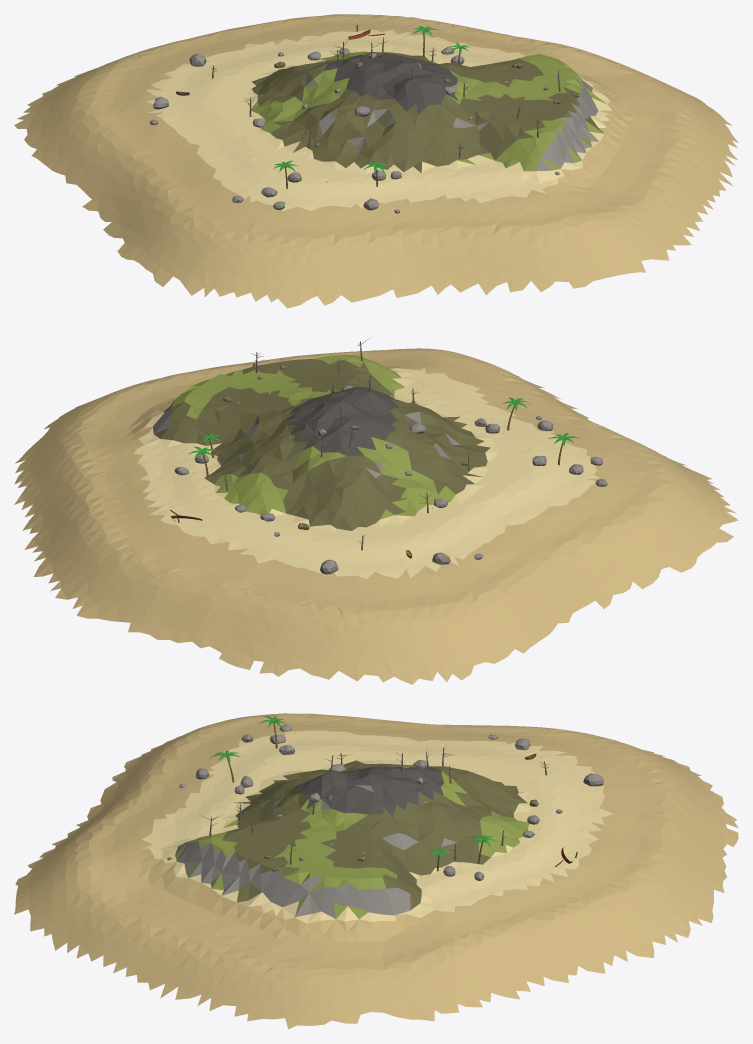
Rendered from Island_Mist.fbx.
3 views of the same model, one above another, from view 1: azimuth 30°, elevation 25°; view 2: azimuth 150°, elevation 25°; view 3: azimuth 270°, elevation 25° (orthographic). The views are drawn at different scales.
Parts seen in each view (by area): view 1: Terrain; view 2: Terrain; view 3: Terrain.
Boxes of the visible parts, <box> form: Terrain: <box>14,14,738,308</box>; Terrain: <box>14,348,738,684</box>; Terrain: <box>14,713,738,1029</box>.
Bounding box in the file's own units: 200 × 38.55 × 203.
